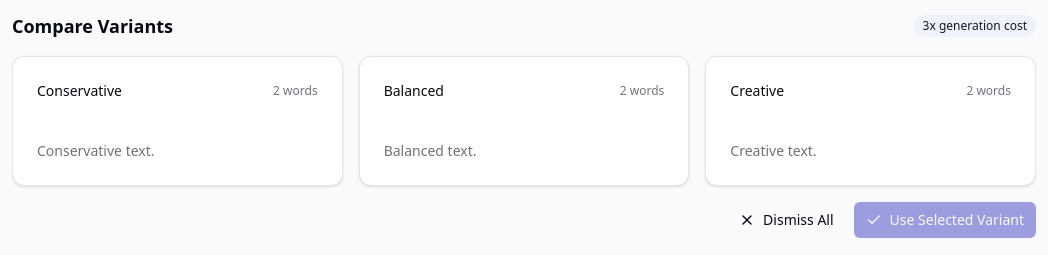
Scenario: VariantComparison › select button enabled after clicking variant
Click the text "Conservative text.". click: (96, 150)
box: [37,141,154,160]
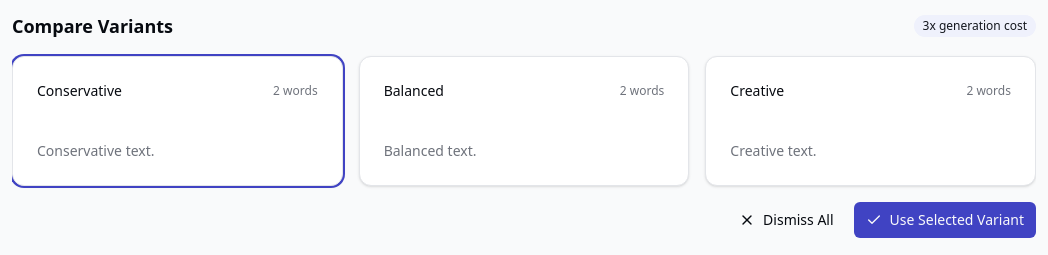
expect the button "Use Selected Variant" is enabled: met, box [854,202,1036,238]
